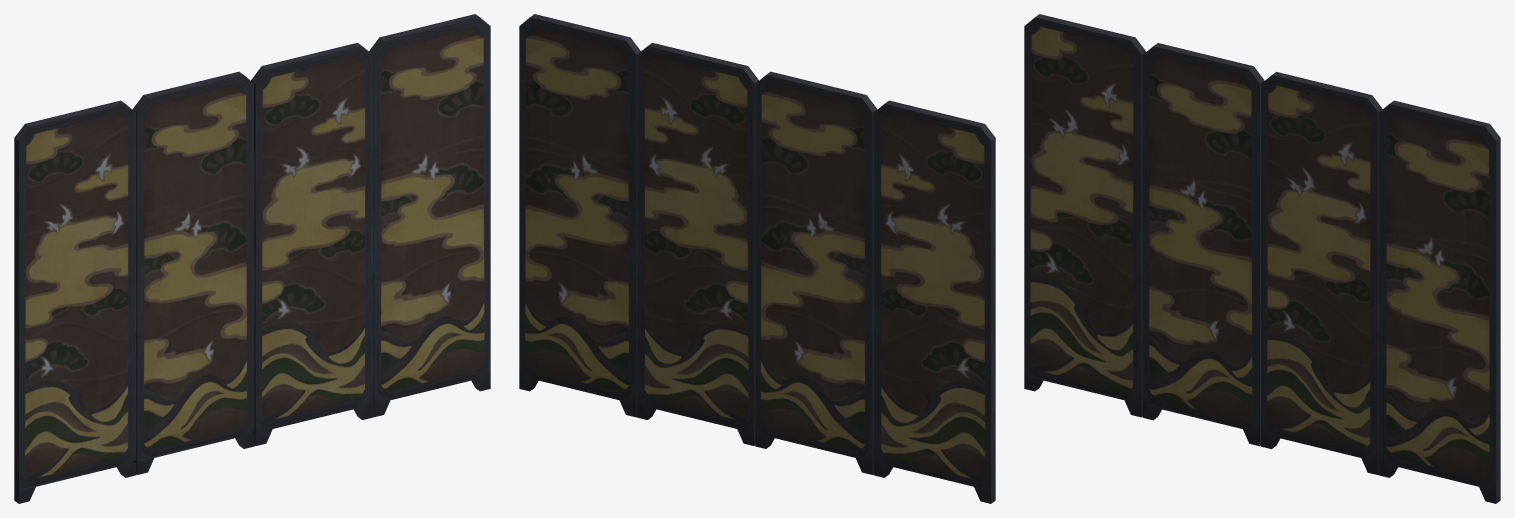
File: Biombo2.obj
3 views of the same model, side by side, from view 1: azimuth 30°, elevation 25°; view 2: azimuth 150°, elevation 25°; view 3: azimuth 330°, elevation 25° (orthographic).
Parts seen in each view (by area): view 1: Cube.008, Cube.007, Cube.005_Cube.004, Cube.004_Cube.003; view 2: Cube.008, Cube.007, Cube.005_Cube.004, Cube.004_Cube.003; view 3: Cube.004_Cube.003, Cube.007, Cube.008, Cube.005_Cube.004.
Part boxes in pixels (x1=…): Cube.008: x1=14, y1=100, x2=136, y2=503; Cube.007: x1=132, y1=71, x2=254, y2=474; Cube.005_Cube.004: x1=251, y1=43, x2=372, y2=445; Cube.004_Cube.003: x1=369, y1=14, x2=490, y2=417; Cube.008: x1=873, y1=100, x2=995, y2=503; Cube.007: x1=755, y1=71, x2=877, y2=474; Cube.005_Cube.004: x1=637, y1=43, x2=758, y2=445; Cube.004_Cube.003: x1=519, y1=14, x2=640, y2=417; Cube.004_Cube.003: x1=1378, y1=100, x2=1500, y2=503; Cube.007: x1=1142, y1=43, x2=1264, y2=446; Cube.008: x1=1024, y1=14, x2=1146, y2=417; Cube.005_Cube.004: x1=1261, y1=72, x2=1382, y2=474.
Size of the model in its own units: 4.24 by 3.21 by 0.0724.
Materials: 1 (1 with a texture image).
